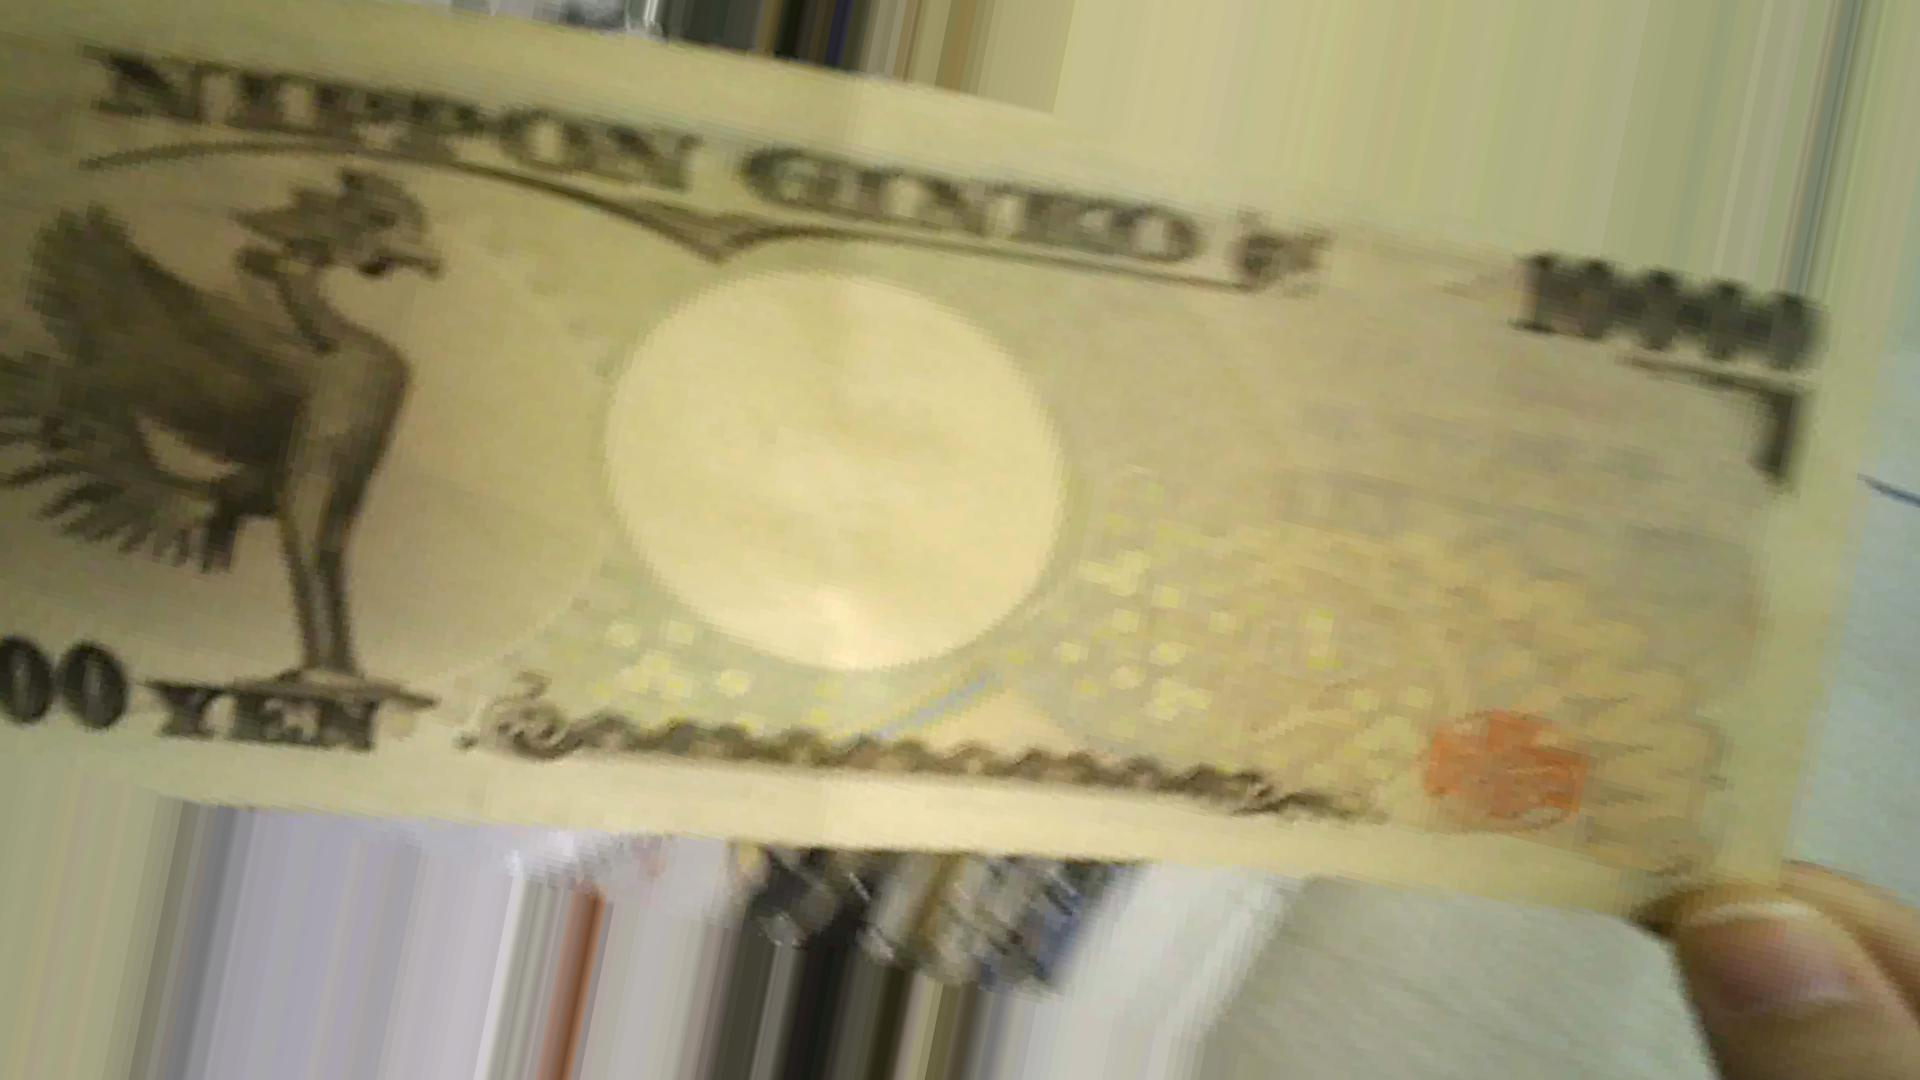10,000 Yen: (12, 12, 1836, 949)
